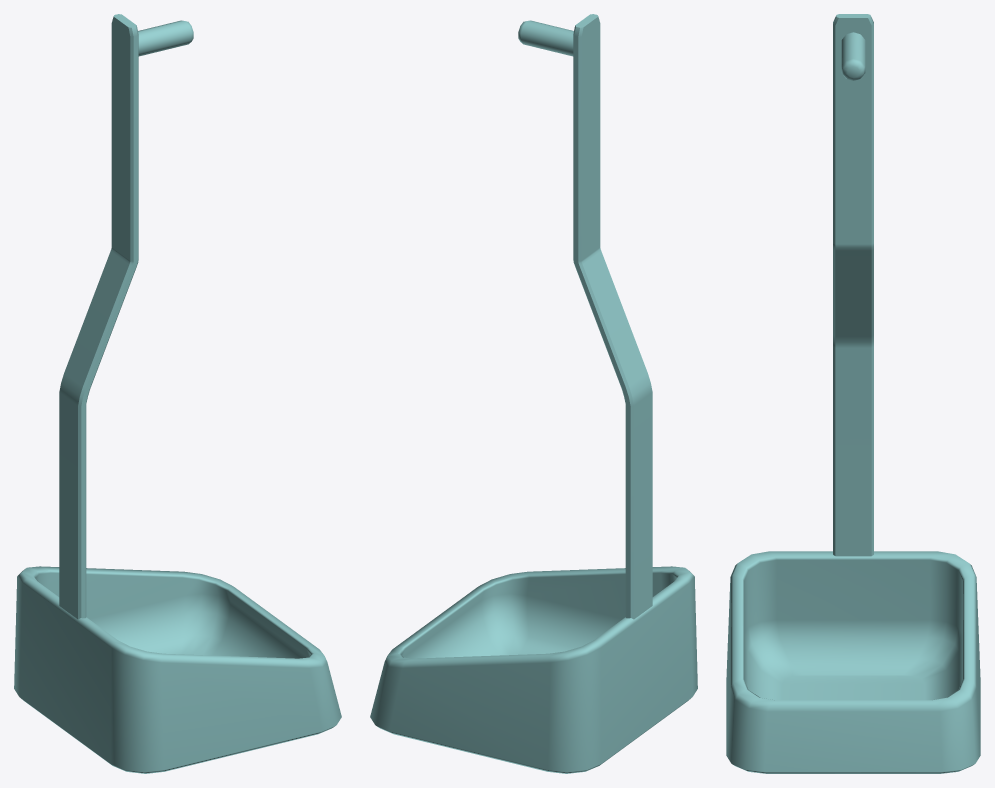
The model's file is Toilet brush_holder.fbx.
3 views of the same model, side by side, from view 1: azimuth 30°, elevation 25°; view 2: azimuth 150°, elevation 25°; view 3: azimuth 270°, elevation 25° (orthographic). The views are drawn at different scales.
Visible parts, largest first — view 1: pCube3; view 2: pCube3; view 3: pCube3.
Boxes of the visible parts, x1,y1,x2,y2 form: pCube3: (14,14,341,773); pCube3: (370,14,697,773); pCube3: (726,14,980,773).
Size of the model in its own units: 0.1781 by 0.5261 by 0.1781.
